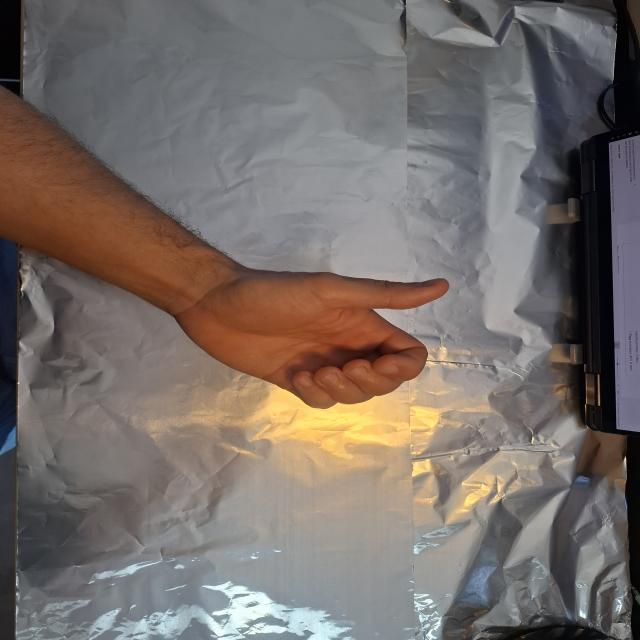glove_off: (167, 265, 452, 411)
